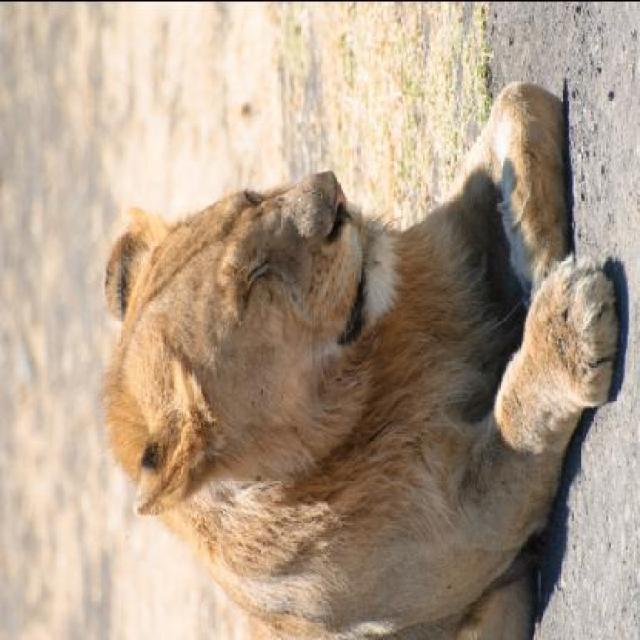Lion: (61, 58, 637, 631)
